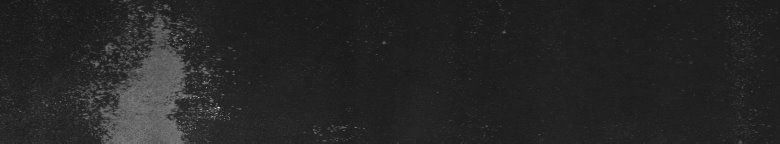kb: (96, 5, 192, 136)
